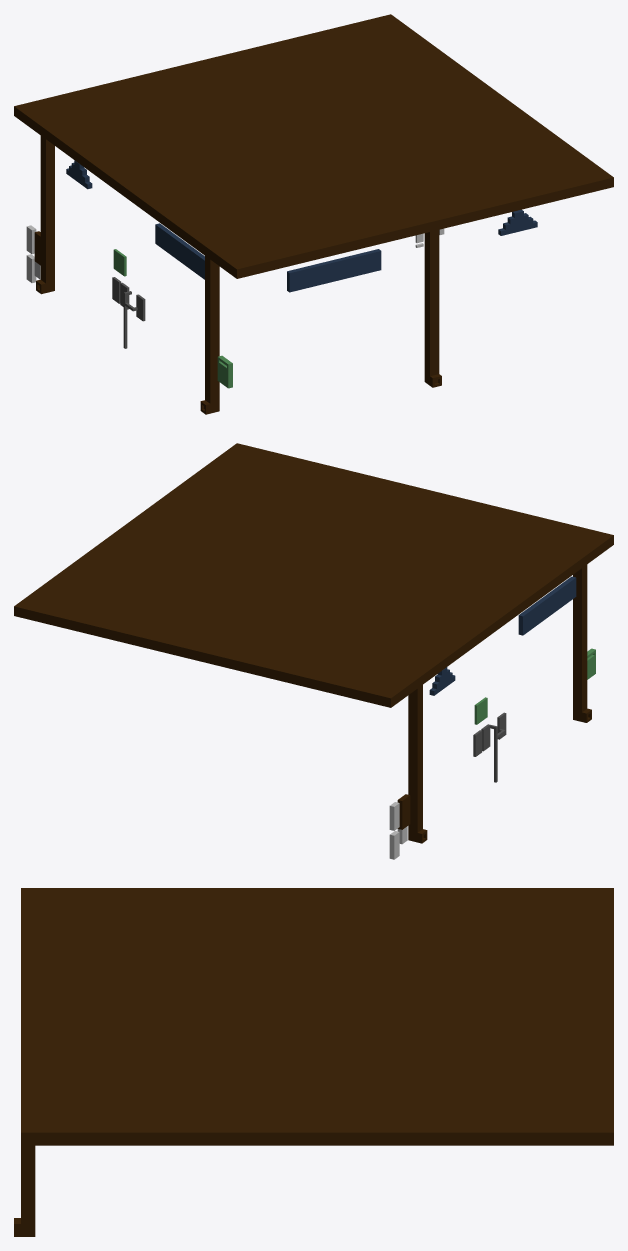
The model's file is pozzi metallo.obj.
The picture shows the model from 3 angles, top to bottom: view 1: azimuth 30°, elevation 25°; view 2: azimuth 150°, elevation 25°; view 3: azimuth 270°, elevation 25°; orthographic projection. The views are drawn at different scales.
Bounding box in the file's own units: 16.6 × 7 × 17.
1 material, 1 textured.
